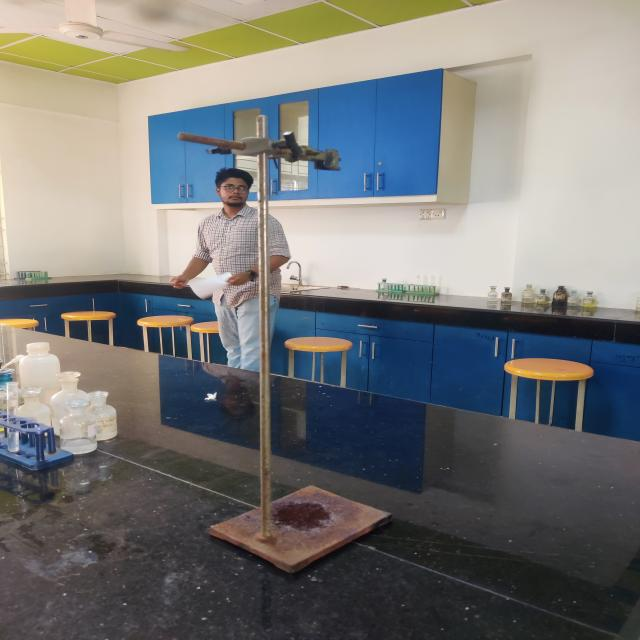Burette_Stands: (158, 114, 417, 584)
